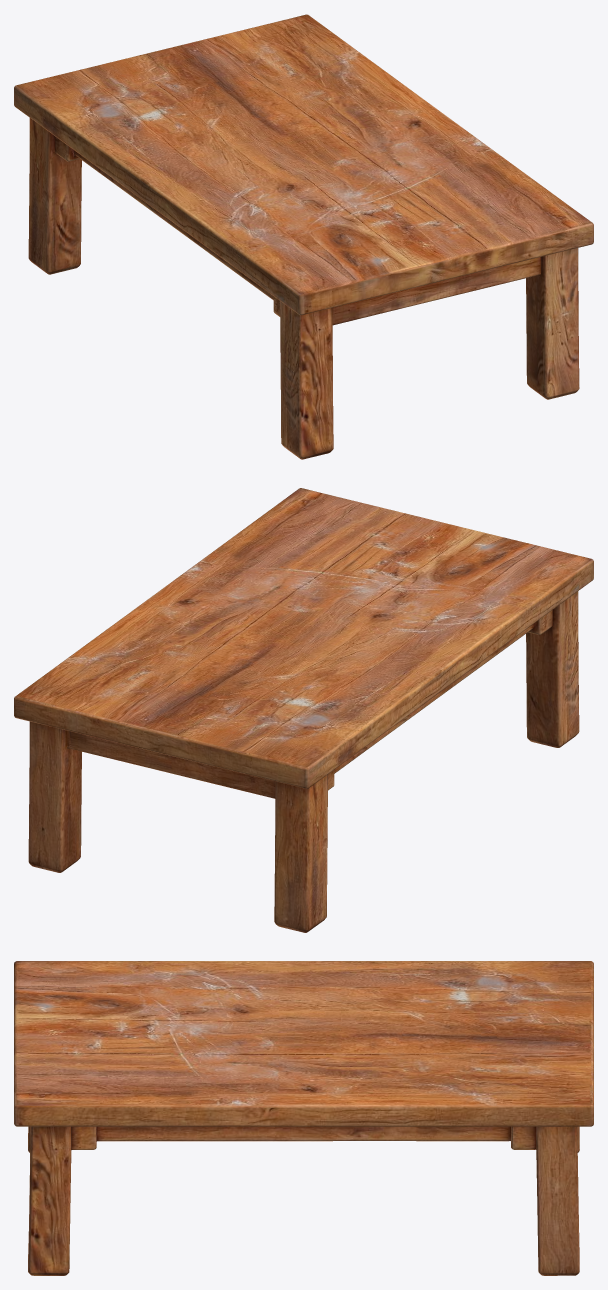
The model's file is desk.glb.
The picture shows the model from 3 angles, top to bottom: view 1: azimuth 30°, elevation 25°; view 2: azimuth 150°, elevation 25°; view 3: azimuth 270°, elevation 25°; orthographic projection.
Visible parts, largest first — view 1: mesh; view 2: mesh; view 3: mesh.
Part boxes in pixels (left/top/right/bottom): mesh: left=14, top=14, right=593, bottom=459; mesh: left=14, top=488, right=593, bottom=932; mesh: left=14, top=961, right=593, bottom=1275.
Size of the model in its own units: 0.5936 by 0.3348 by 1.
Materials: 1 (1 with a texture image).
